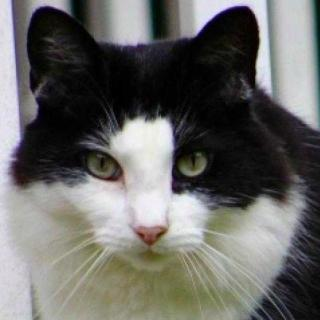cat: (9, 0, 271, 282)
nose: (122, 185, 179, 250)
